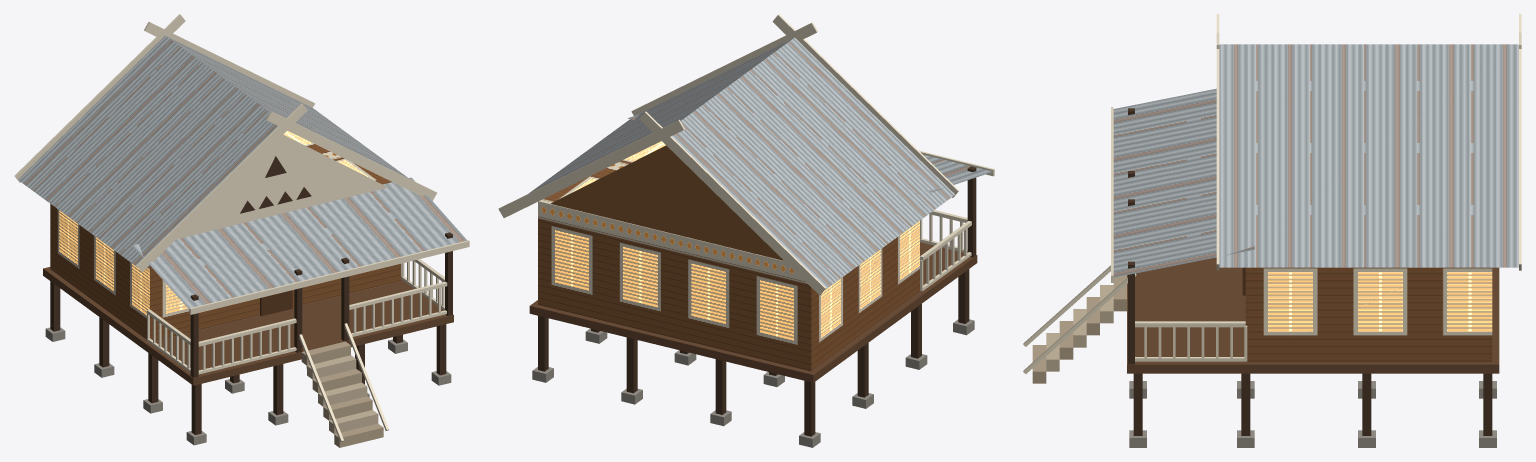
File: kampung-stilt-house.glb
3 renders of one model, left to right at view 1: azimuth 30°, elevation 25°; view 2: azimuth 150°, elevation 25°; view 3: azimuth 270°, elevation 25°, orthographic. The views are drawn at different scales.
Parts seen in each view (by area): view 1: kp_roof_zinc, kp_body, kp_wall_brown; view 2: kp_roof_zinc, kp_wall_brown, kp_body; view 3: kp_roof_zinc, kp_body, kp_wall_brown.
Part boxes in pixels (box(x1,y1,x2,y2)): kp_roof_zinc: box(18, 35, 467, 309); kp_body: box(14, 14, 469, 447); kp_wall_brown: box(50, 130, 400, 340); kp_roof_zinc: box(529, 37, 992, 290); kp_wall_brown: box(538, 141, 919, 371); kp_body: box(498, 14, 994, 447); kp_roof_zinc: box(1113, 44, 1518, 277); kp_body: box(1023, 14, 1521, 447); kp_wall_brown: box(1245, 267, 1492, 361).
Bounding box in the file's own units: 9.56 × 8.54 × 11.11.
4 materials, 2 textured.
